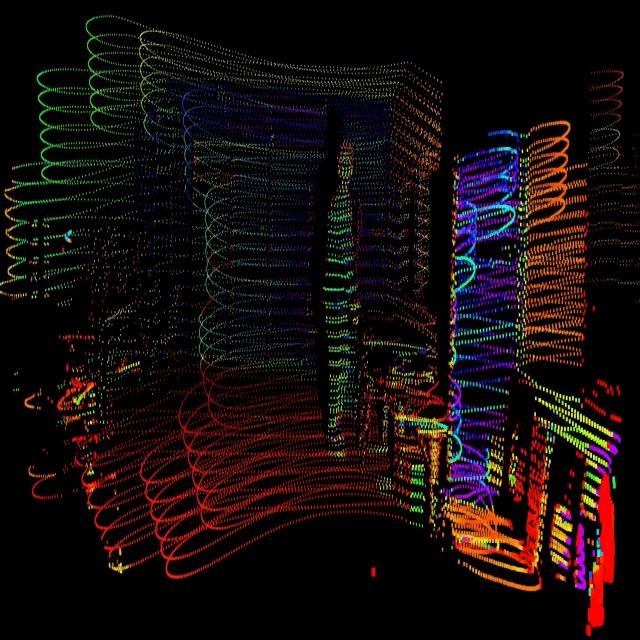human: (318, 127, 366, 469)
